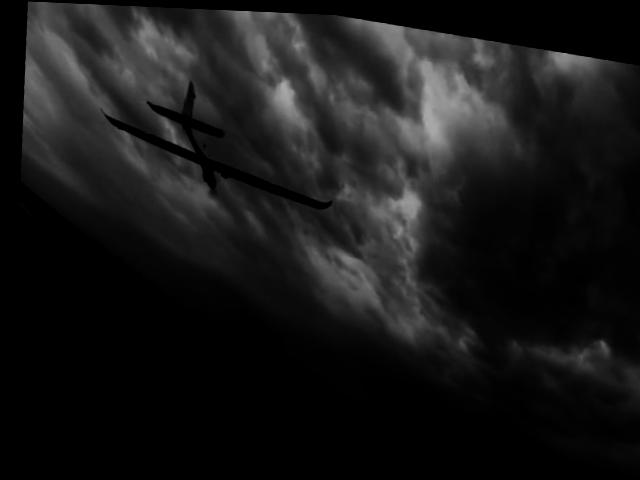hedef: (83, 61, 337, 244)
